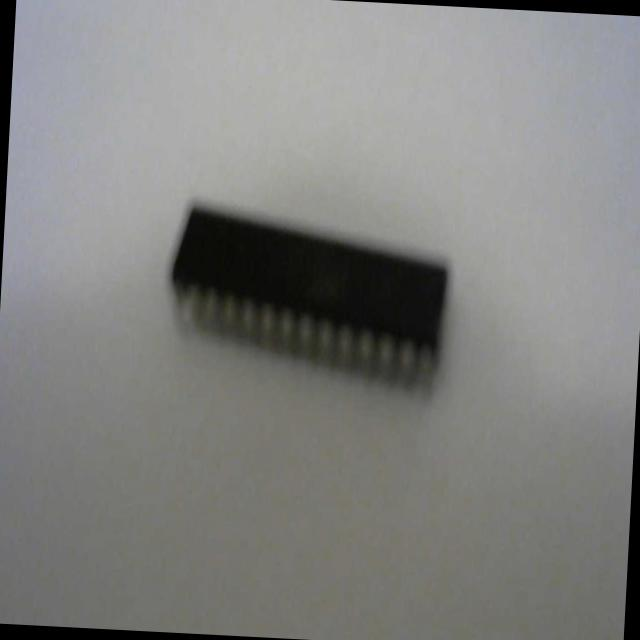atmega: (162, 195, 454, 398)
